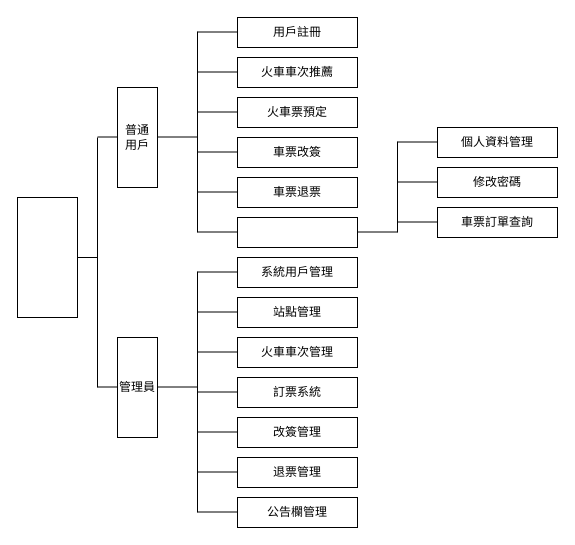
The diagram is 575 pixels wide and 545 high, and some of its shapes have lost their labels. Each missing label, with the centre of its shape:
"個人中心" belongs at point 297,232.
"火車票 訂票系統" belongs at point 47,257.
